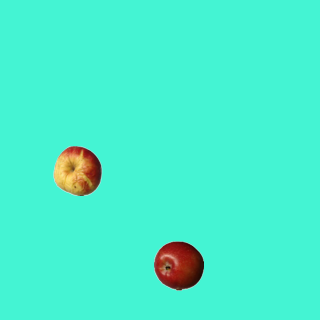Apple Braeburn: (153, 240, 203, 290)
Apple Red Yellow 1: (52, 145, 102, 195)
